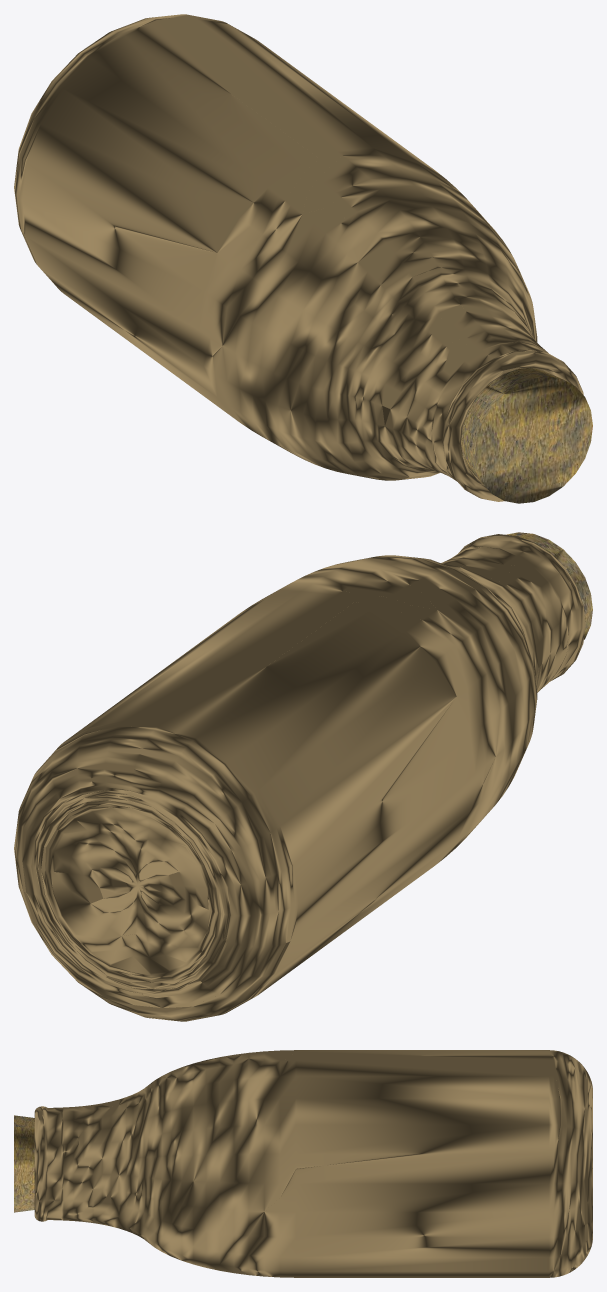
The model's file is model_align.obj.
The picture shows the model from 3 angles, top to bottom: view 1: azimuth 30°, elevation 25°; view 2: azimuth 150°, elevation 25°; view 3: azimuth 270°, elevation 25°; orthographic projection. The views are drawn at different scales.
Bounding box in the file's own units: 0.1003 × 0.1003 × 0.254.
